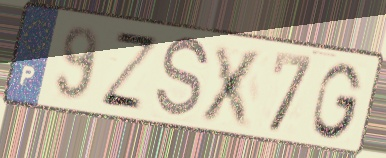7: (267, 49, 317, 135)
9: (54, 24, 101, 104)
G: (310, 60, 366, 142)
S: (152, 34, 212, 122)
X: (195, 41, 269, 132)
Z: (96, 27, 163, 114)
